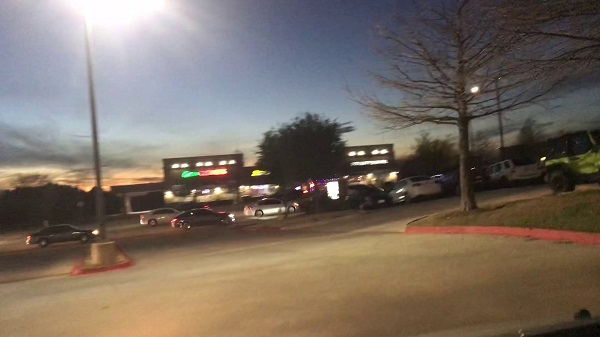car: (23, 224, 96, 248), (169, 210, 234, 230), (387, 176, 439, 201), (243, 196, 299, 216), (136, 208, 185, 226)
